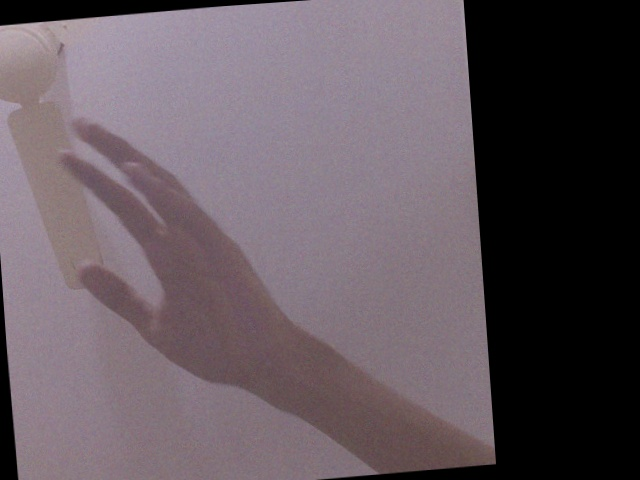hand: (48, 106, 294, 409)
